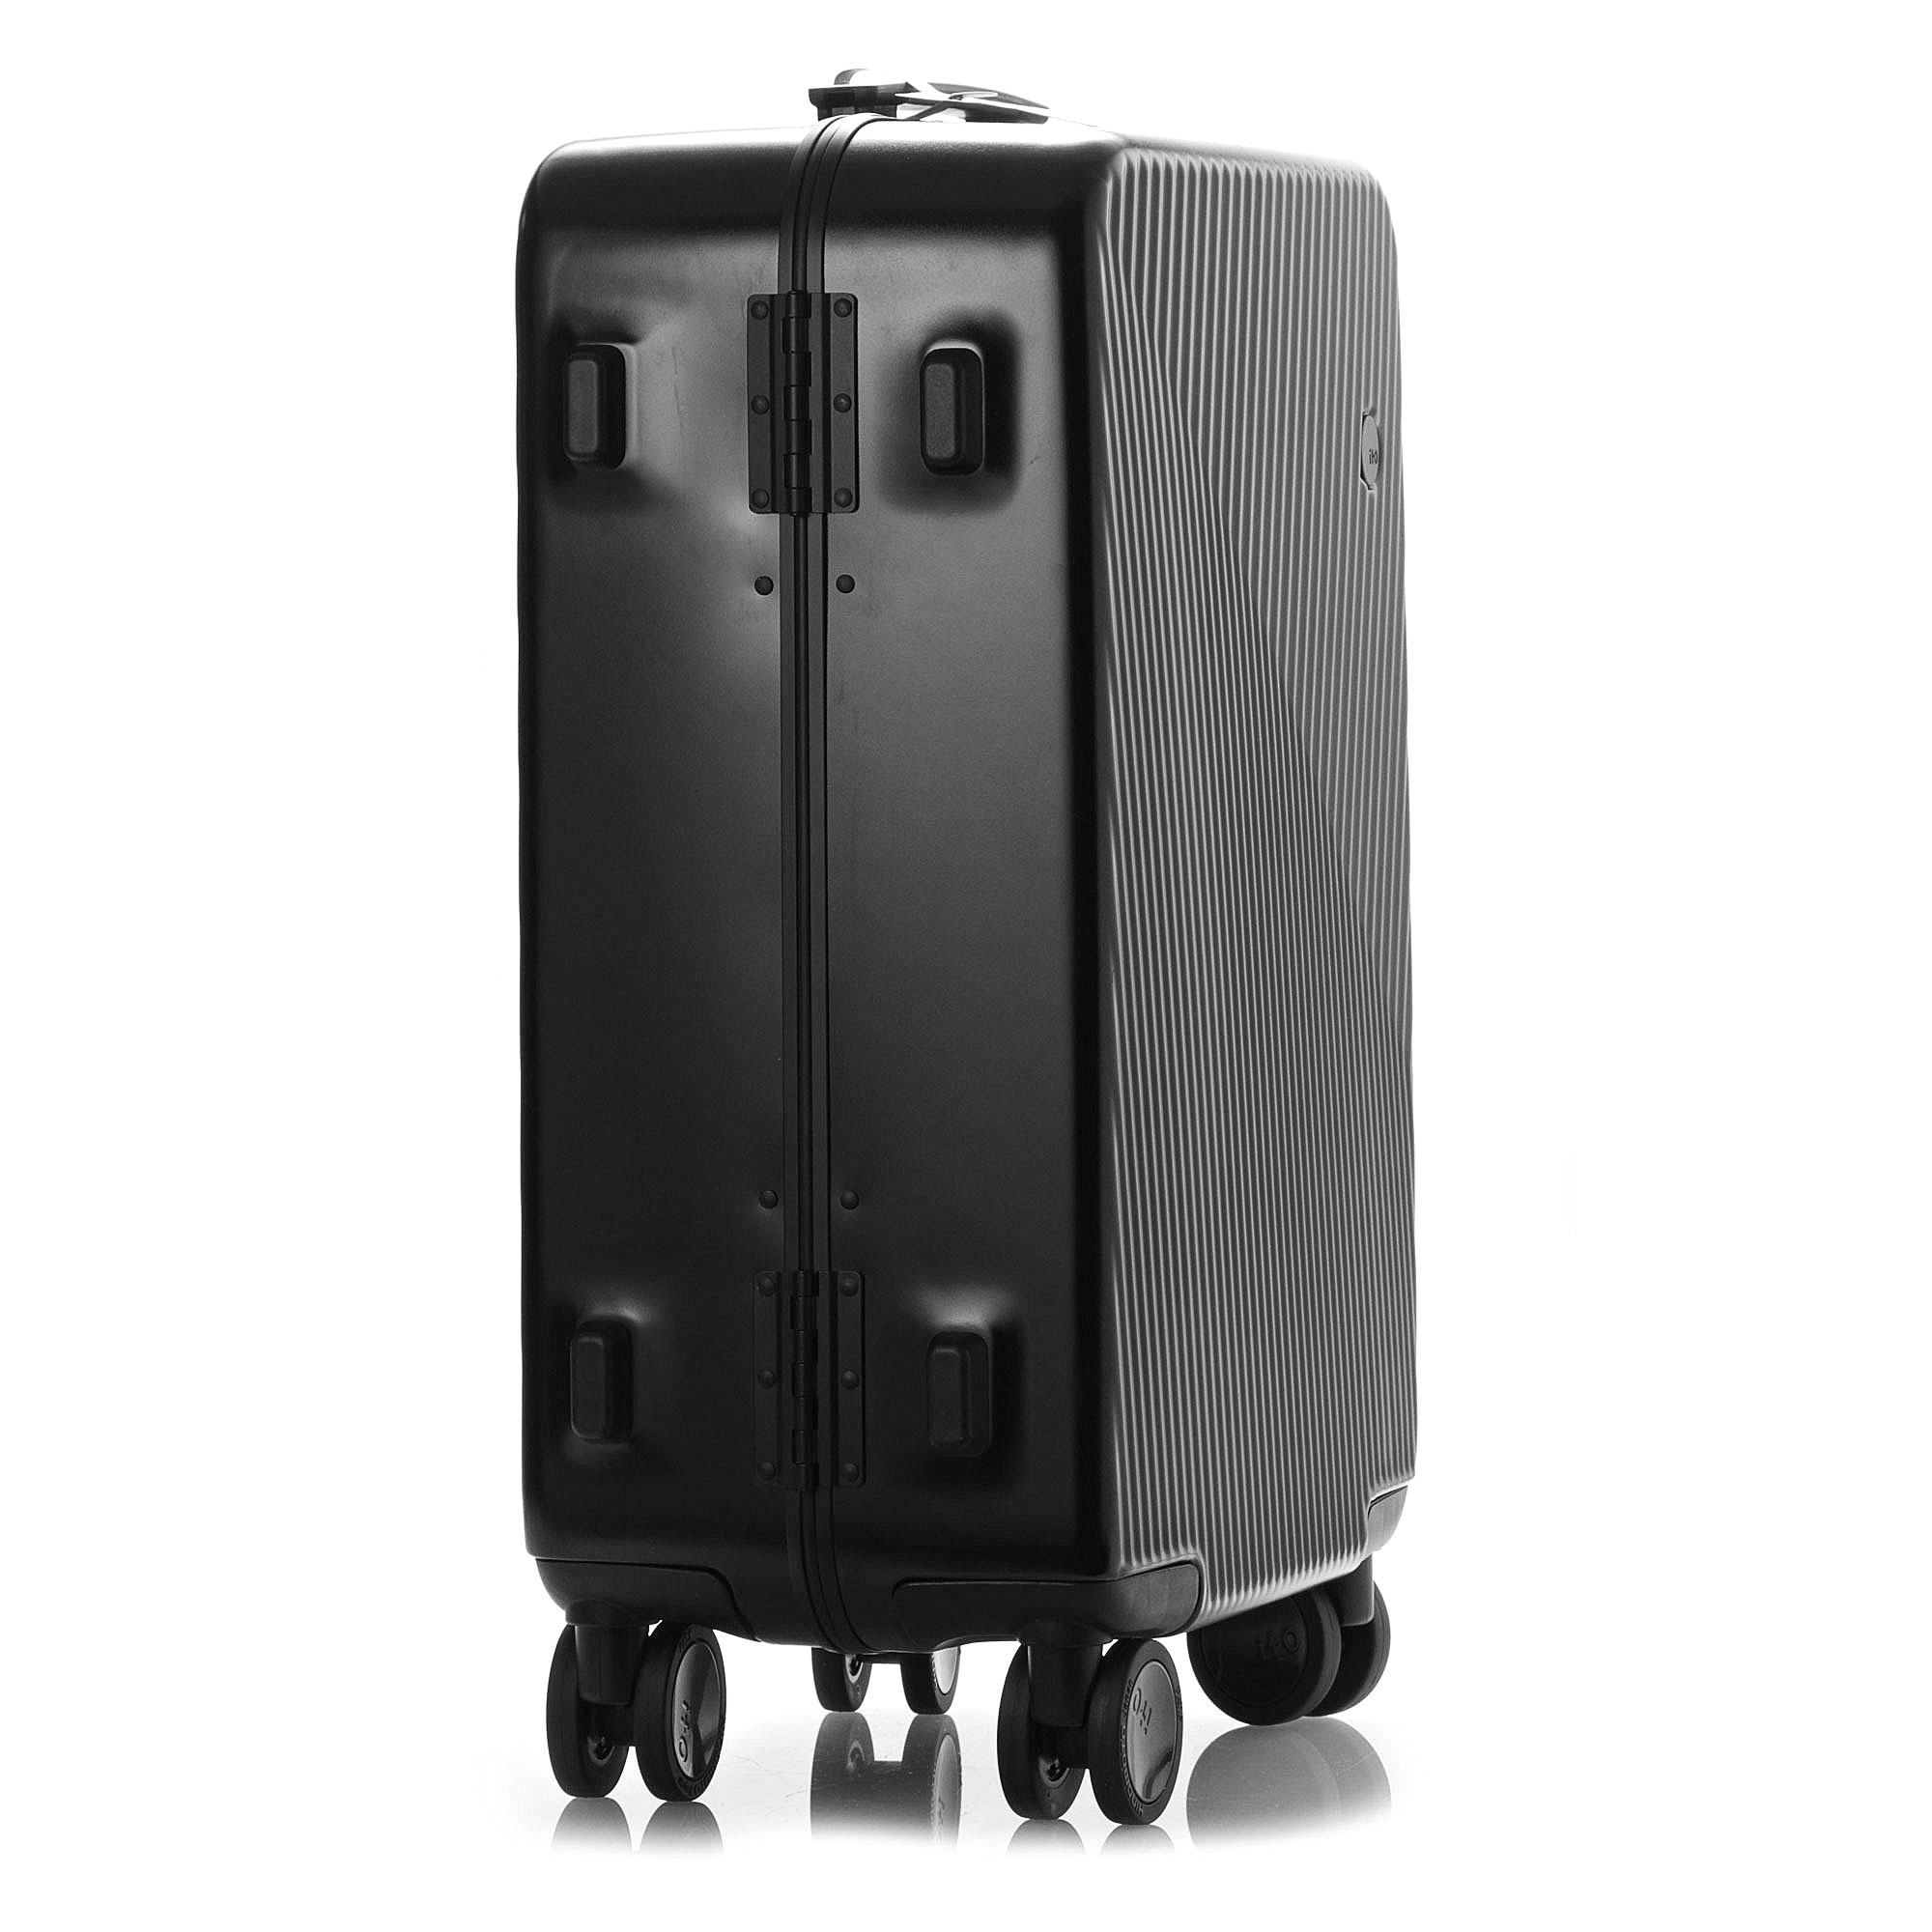suitcase: (513, 69, 1417, 1824)
